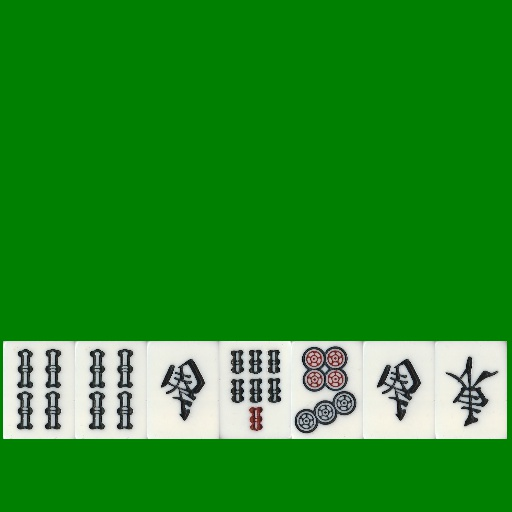4s: (3, 341, 75, 439), (75, 341, 147, 439)
7p: (291, 341, 363, 439)
7s: (219, 341, 291, 439)
east: (435, 341, 507, 439)
south: (147, 341, 219, 439), (363, 341, 435, 439)
